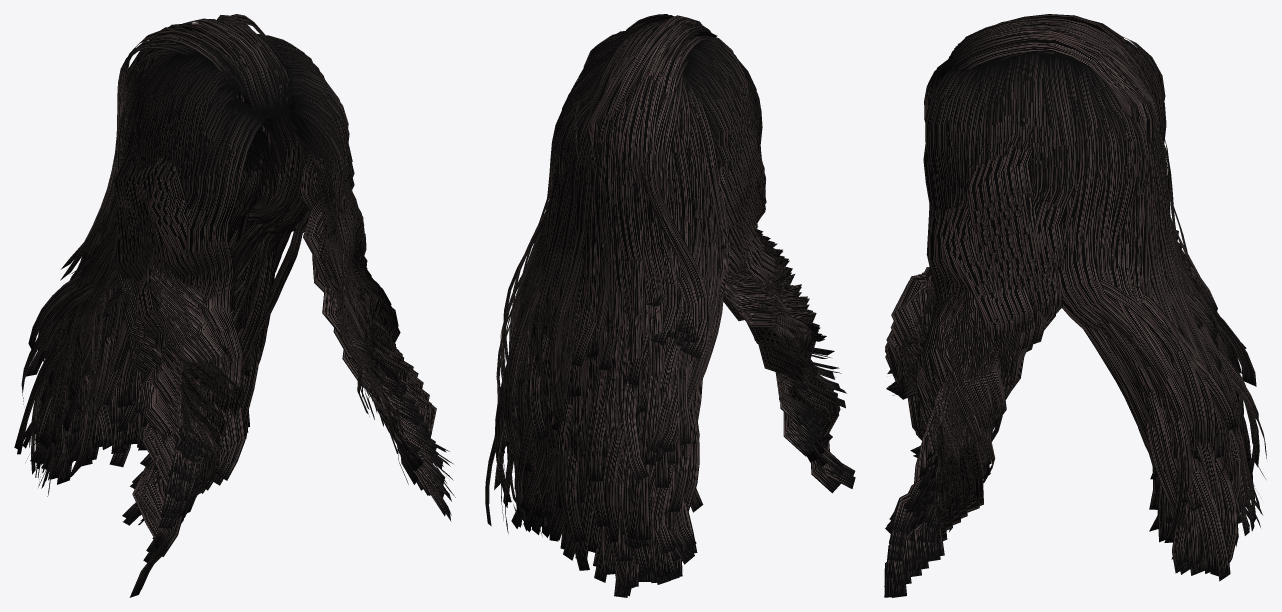
The model's file is Hair08.fbx.
The picture shows the model from 3 angles, left to right: view 1: azimuth 30°, elevation 25°; view 2: azimuth 150°, elevation 25°; view 3: azimuth 270°, elevation 25°; orthographic projection. The views are drawn at different scales.
Parts seen in each view (by area): view 1: hair8; view 2: hair8; view 3: hair8.
Part boxes in pixels (box(x1,y1,x2,y2)): hair8: box(14, 14, 455, 597); hair8: box(485, 14, 855, 597); hair8: box(884, 14, 1266, 597).
Size of the model in its own units: 39.73 by 62.37 by 40.3.
Materials: 1 (1 with a texture image).
